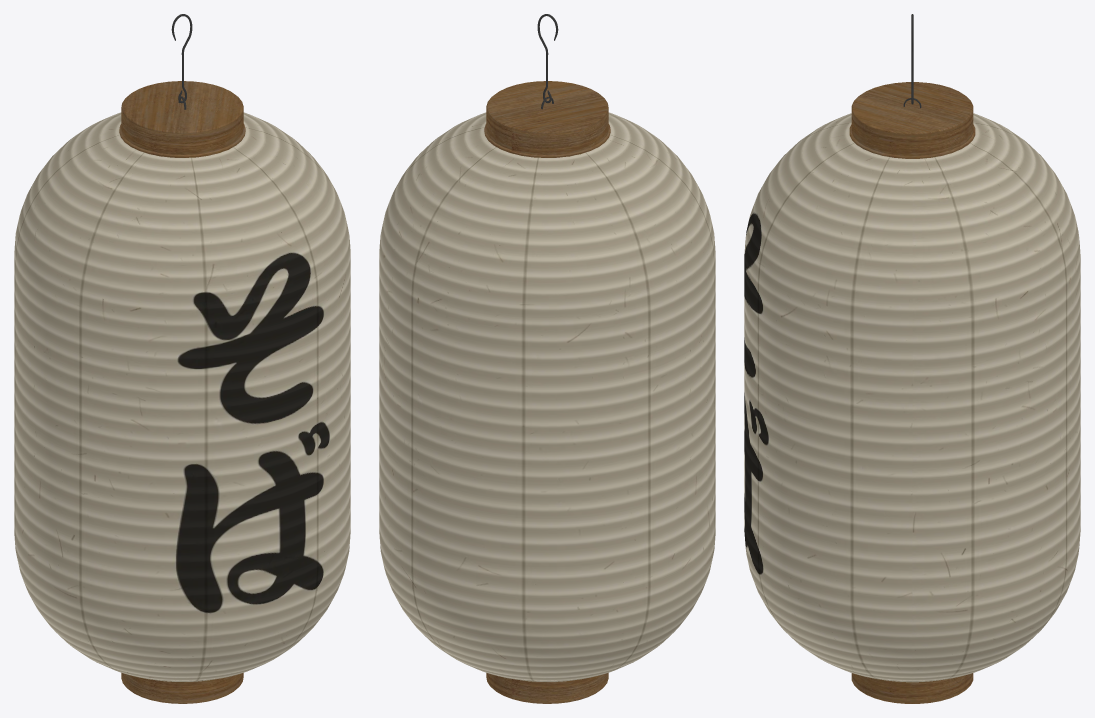
File: lampara.glb
3 views of the same model, side by side, from view 1: azimuth 30°, elevation 25°; view 2: azimuth 150°, elevation 25°; view 3: azimuth 270°, elevation 25° (orthographic).
Parts seen in each view (by area): view 1: paper lantern_lantern_0; view 2: paper lantern_lantern_0; view 3: paper lantern_lantern_0.
Boxes of the visible parts, x1,y1,x2,y2 form: paper lantern_lantern_0: [14, 14, 350, 703]; paper lantern_lantern_0: [379, 14, 715, 703]; paper lantern_lantern_0: [744, 14, 1080, 703].
Bounding box in the file's own units: 0.3637 × 0.7924 × 0.3637.
Materials: 1 (1 with a texture image).
